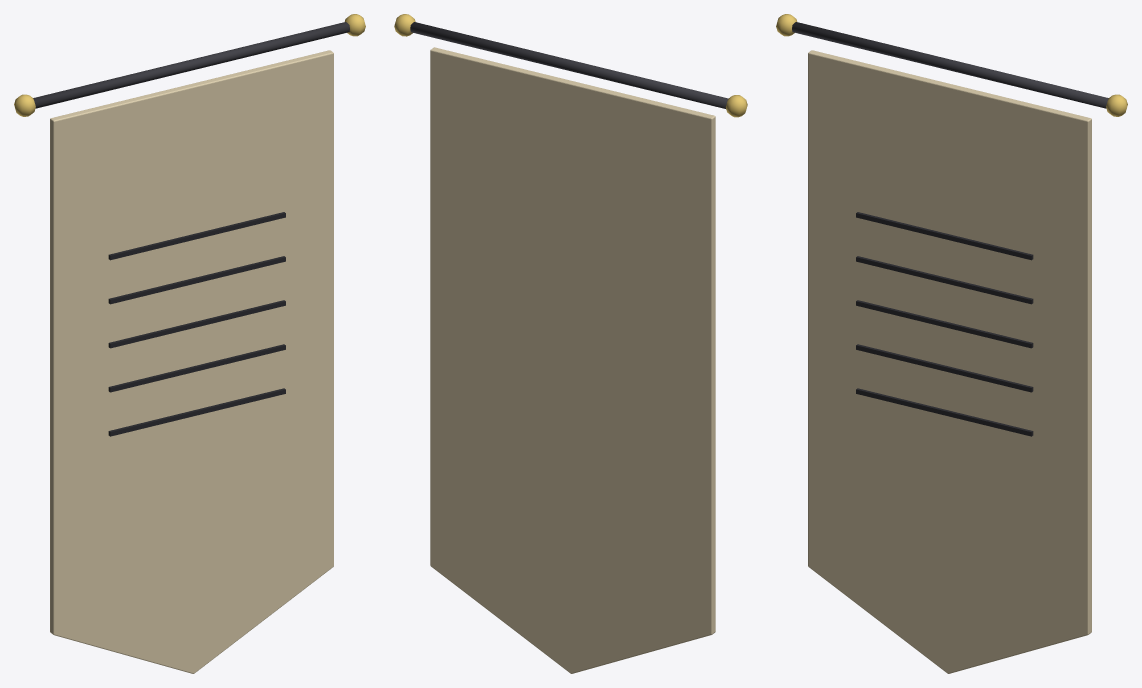
File: banner_scroll_banner.glb
3 views of the same model, side by side, from view 1: azimuth 30°, elevation 25°; view 2: azimuth 150°, elevation 25°; view 3: azimuth 330°, elevation 25° (orthographic).
Parts seen in each view (by area): view 1: GD_banner_scroll_banner__m2, GD_banner_scroll_banner__m3, GD_banner_scroll_banner__m0, GD_banner_scroll_banner__m1; view 2: GD_banner_scroll_banner__m2, GD_banner_scroll_banner__m0, GD_banner_scroll_banner__m1; view 3: GD_banner_scroll_banner__m2, GD_banner_scroll_banner__m3, GD_banner_scroll_banner__m0, GD_banner_scroll_banner__m1.
Boxes of the visible parts, bbox=[...] form: GD_banner_scroll_banner__m2: bbox=[50, 50, 333, 673]; GD_banner_scroll_banner__m3: bbox=[108, 212, 285, 436]; GD_banner_scroll_banner__m0: bbox=[33, 22, 349, 108]; GD_banner_scroll_banner__m1: bbox=[14, 14, 365, 116]; GD_banner_scroll_banner__m2: bbox=[430, 47, 715, 673]; GD_banner_scroll_banner__m0: bbox=[410, 22, 728, 108]; GD_banner_scroll_banner__m1: bbox=[394, 14, 747, 117]; GD_banner_scroll_banner__m2: bbox=[808, 50, 1091, 673]; GD_banner_scroll_banner__m3: bbox=[856, 212, 1033, 436]; GD_banner_scroll_banner__m0: bbox=[792, 22, 1108, 108]; GD_banner_scroll_banner__m1: bbox=[776, 14, 1127, 116].
Size of the model in its own units: 0.996 by 1.68 by 0.068.
